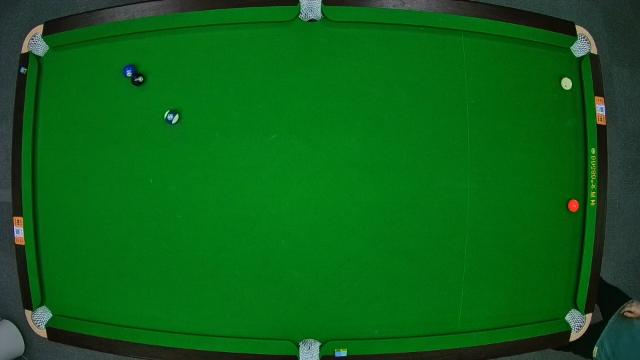bag1: (27, 35, 49, 55)
bag2: (300, 1, 322, 20)
bag3: (570, 33, 592, 58)
bag4: (30, 308, 51, 328)
bag5: (296, 340, 320, 360)
bag6: (568, 309, 584, 331)
ball0: (562, 78, 574, 90)
ball10: (162, 108, 180, 124)
ball2: (124, 63, 138, 79)
ball5: (568, 198, 580, 214)
ball8: (130, 71, 146, 87)
